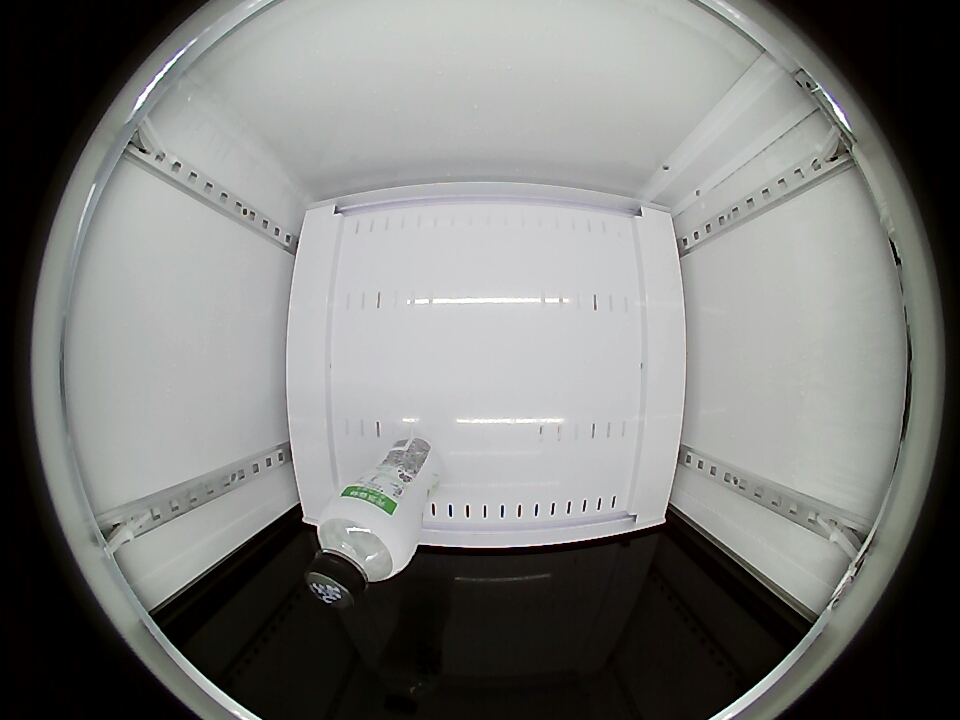yuanqishui: (306, 491, 418, 608)
